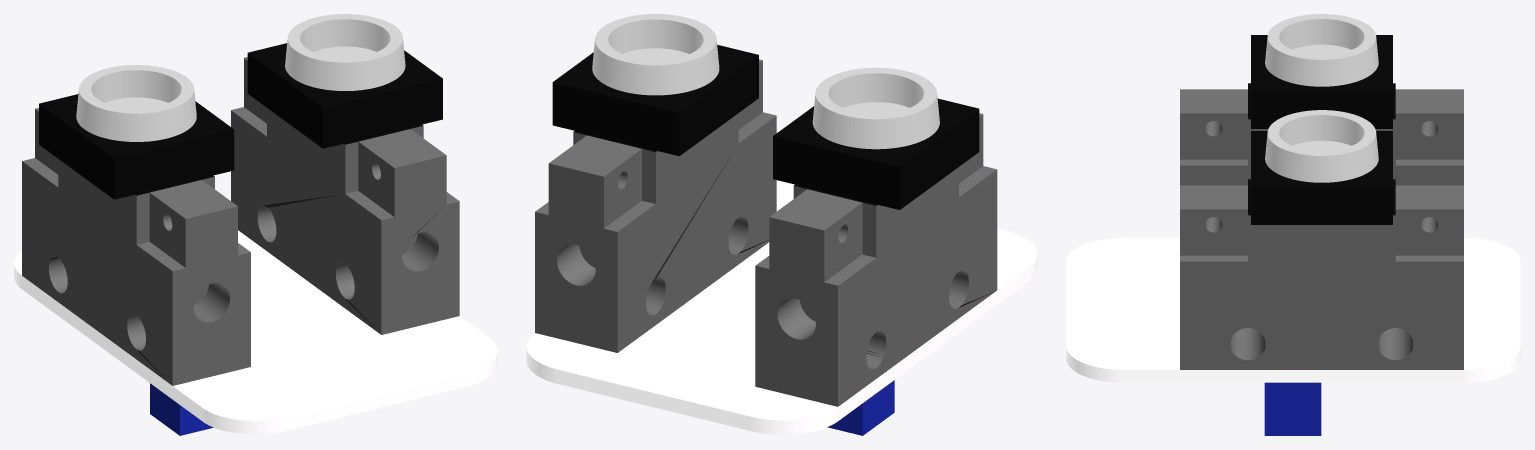
Rendered from SAI2017.glb.
3 renders of one model, left to right at view 1: azimuth 30°, elevation 25°; view 2: azimuth 150°, elevation 25°; view 3: azimuth 270°, elevation 25°, orthographic. The views are drawn at different scales.
Parts seen in each view (by area): view 1: SAI2017; view 2: SAI2017; view 3: SAI2017.
Boxes of the visible parts, bbox=[...] form: SAI2017: bbox=[14, 14, 497, 435]; SAI2017: bbox=[526, 14, 1037, 435]; SAI2017: bbox=[1066, 14, 1520, 435].
Size of the model in its own units: 0.063 by 0.06 by 0.08.
